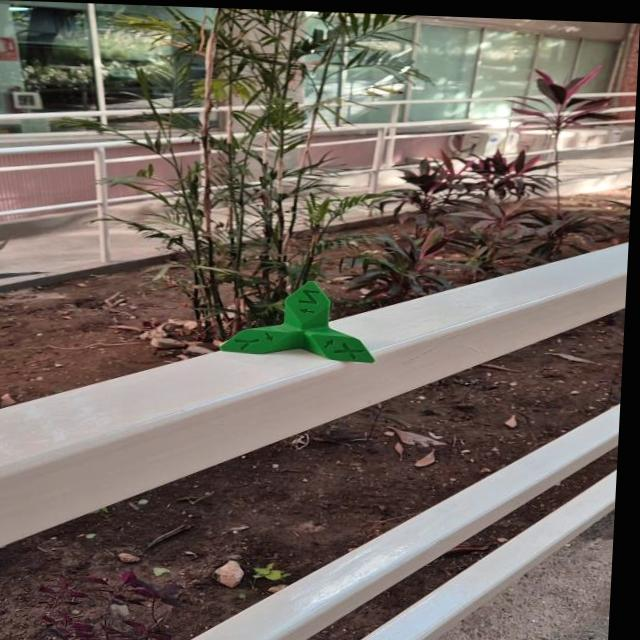eje: (216, 276, 382, 364)
